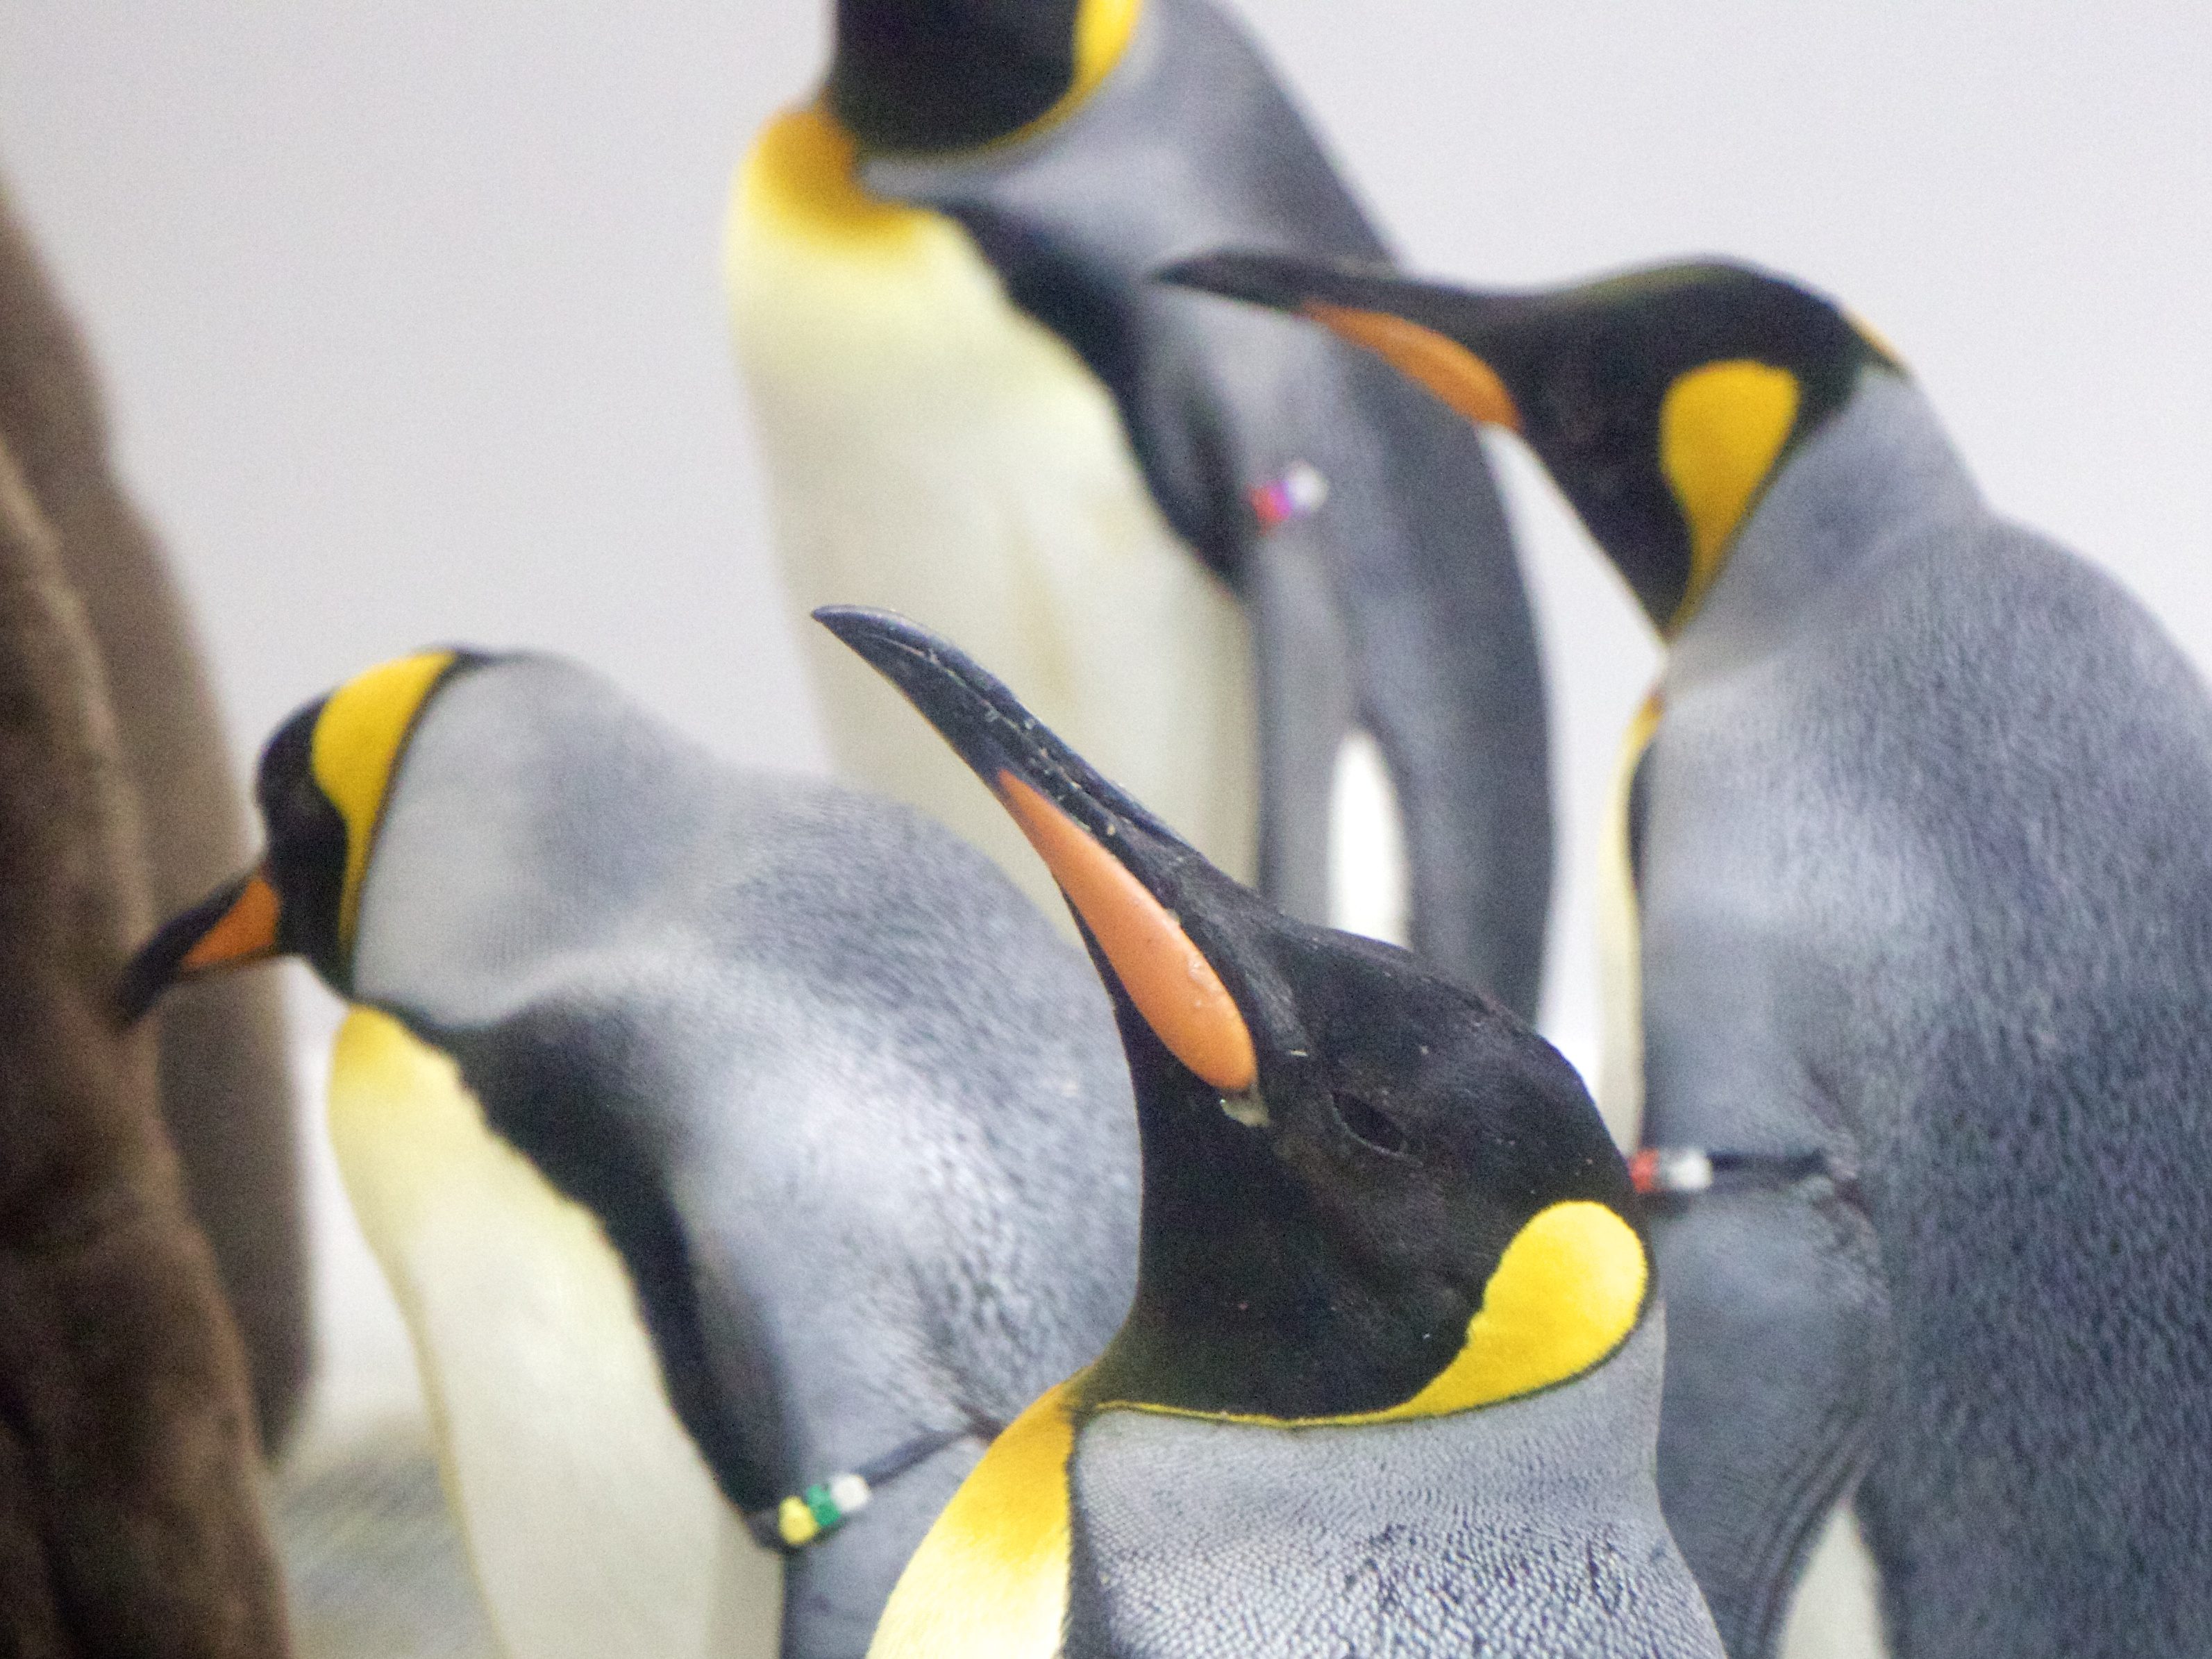penguin: (1123, 225, 2195, 1659), (807, 612, 1741, 1659)
